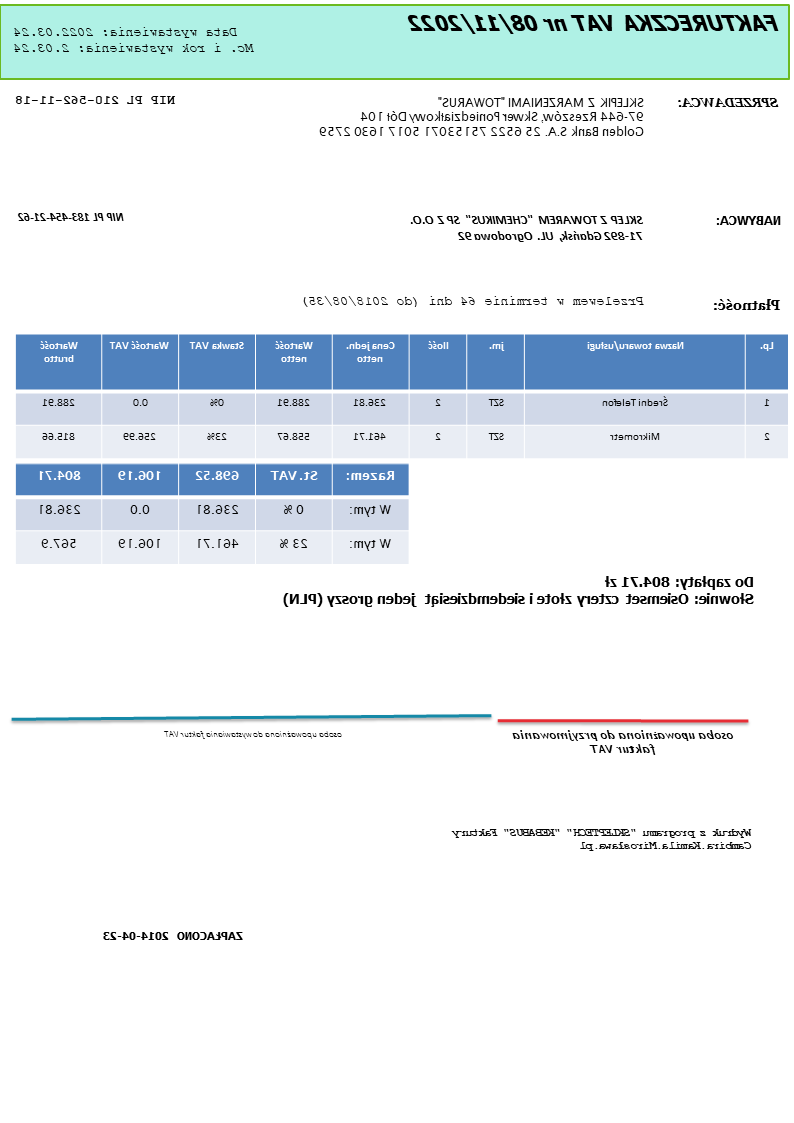Table: (15, 330, 790, 458), (14, 462, 411, 568)
TextBox: (280, 574, 758, 611), (317, 94, 647, 142), (406, 9, 783, 36), (451, 823, 755, 855), (11, 23, 257, 57), (411, 212, 646, 244), (510, 727, 737, 758), (302, 293, 647, 308), (14, 92, 179, 108), (160, 728, 346, 742), (100, 928, 246, 943), (677, 93, 782, 110), (17, 209, 128, 224), (713, 295, 782, 313), (715, 211, 785, 228)
